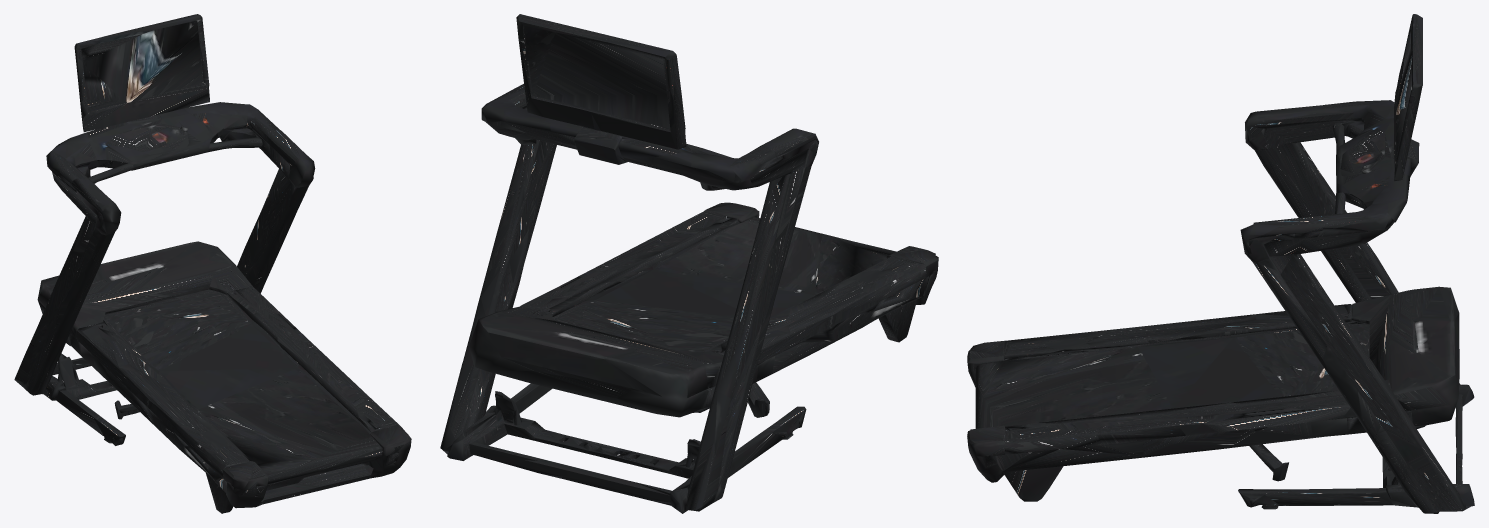
The model's file is k1-nordictrack-2450-phone.glb.
3 views of the same model, side by side, from view 1: azimuth 30°, elevation 25°; view 2: azimuth 150°, elevation 25°; view 3: azimuth 270°, elevation 25° (orthographic). The views are drawn at different scales.
Parts seen in each view (by area): view 1: Mesh_0; view 2: Mesh_0; view 3: Mesh_0.
Part boxes in pixels (<box>): Mesh_0: <box>14,14,411,513</box>; Mesh_0: <box>440,14,938,513</box>; Mesh_0: <box>967,14,1474,513</box>.
Bounding box in the file's own units: 1.08 × 1.68 × 1.9.
1 material, 1 textured.
